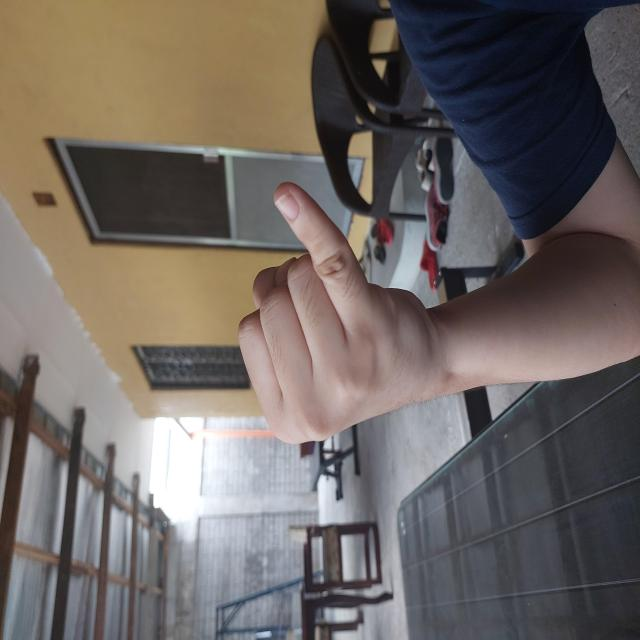J: (199, 157, 458, 493)
